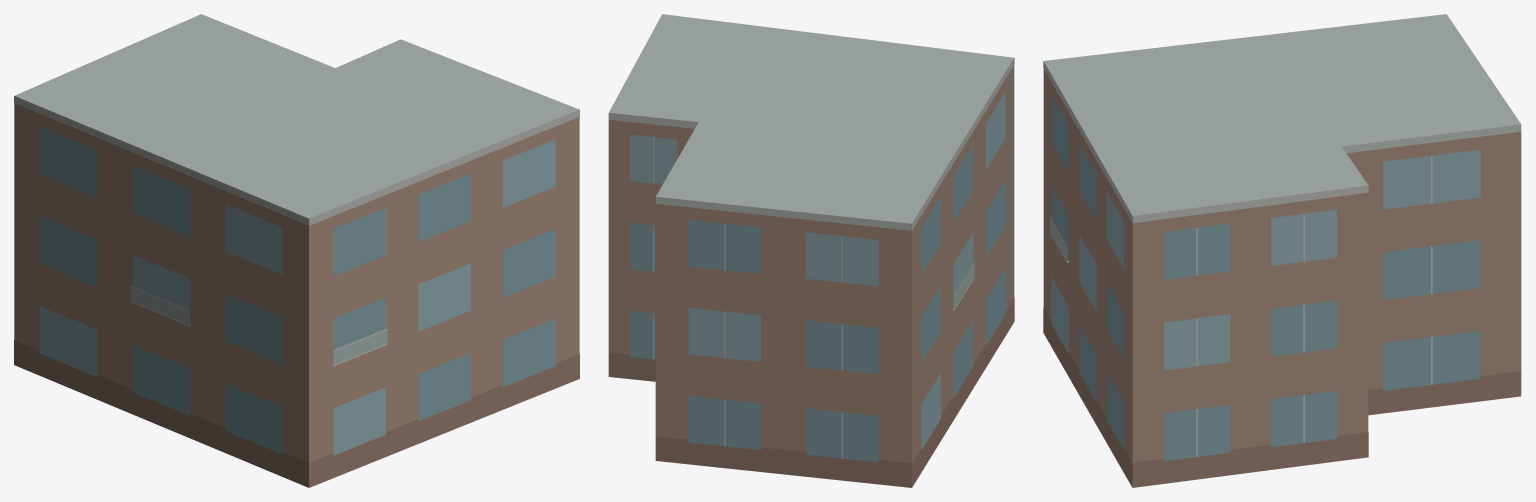
Rendered from survey-upis-32921170.glb.
3 renders of one model, left to right at view 1: azimuth 30°, elevation 25°; view 2: azimuth 150°, elevation 25°; view 3: azimuth 270°, elevation 25°, orthographic. The views are drawn at different scales.
Visible parts, largest first — view 1: survey-upis-32921170.tmp; view 2: survey-upis-32921170.tmp; view 3: survey-upis-32921170.tmp.
Boxes of the visible parts, bbox=[...] form: survey-upis-32921170.tmp: bbox=[14, 14, 579, 487]; survey-upis-32921170.tmp: bbox=[608, 14, 1014, 487]; survey-upis-32921170.tmp: bbox=[1043, 14, 1521, 487].
Bounding box in the file's own units: 14.6 × 9.15 × 14.59.
